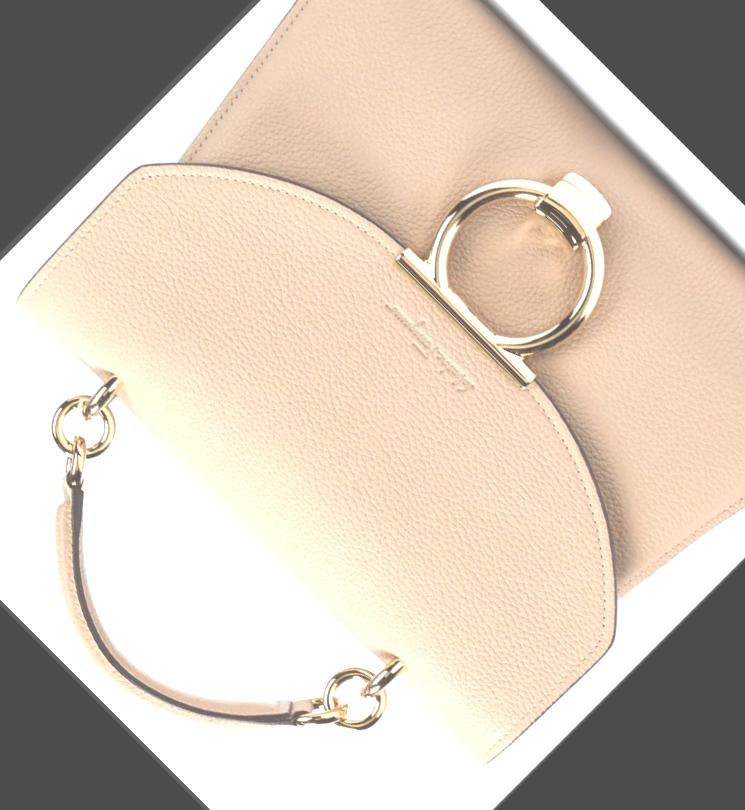FERRAGAMO: (366, 101, 677, 413)
